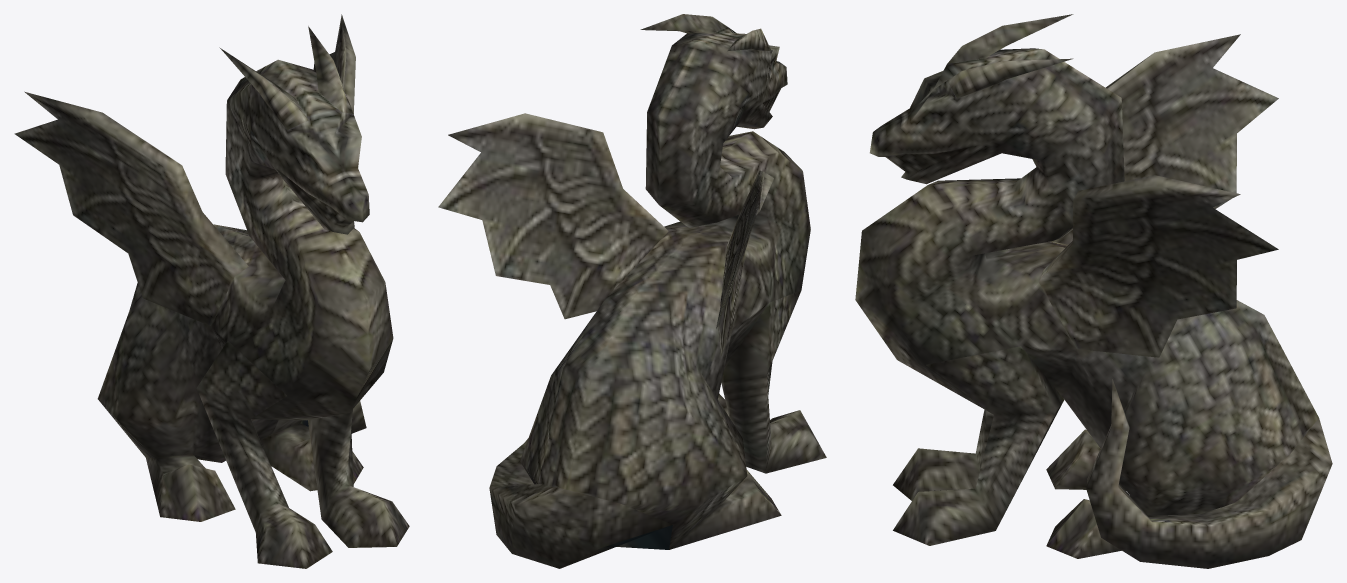
The model's file is Statue.fbx.
The picture shows the model from 3 angles, left to right: view 1: azimuth 30°, elevation 25°; view 2: azimuth 150°, elevation 25°; view 3: azimuth 270°, elevation 25°; orthographic projection. The views are drawn at different scales.
Parts seen in each view (by area): view 1: Statue; view 2: Statue; view 3: Statue.
Boxes of the visible parts, x1=… form: Statue: x1=14, y1=14, x2=409, y2=568; Statue: x1=438, y1=14, x2=826, y2=568; Statue: x1=855, y1=14, x2=1332, y2=568.
Size of the model in its own units: 122 by 167 by 153.
